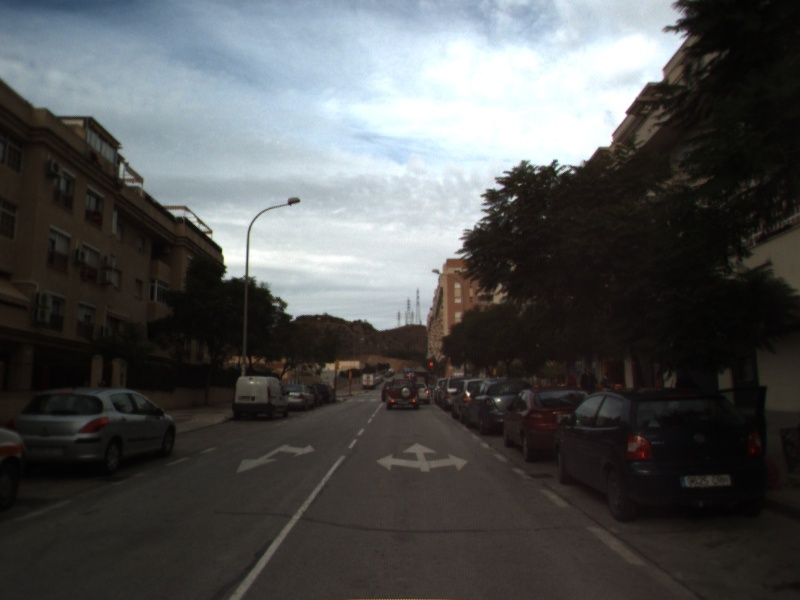STRAIGHT_LEFT_RIGHT: (374, 440, 470, 474)
